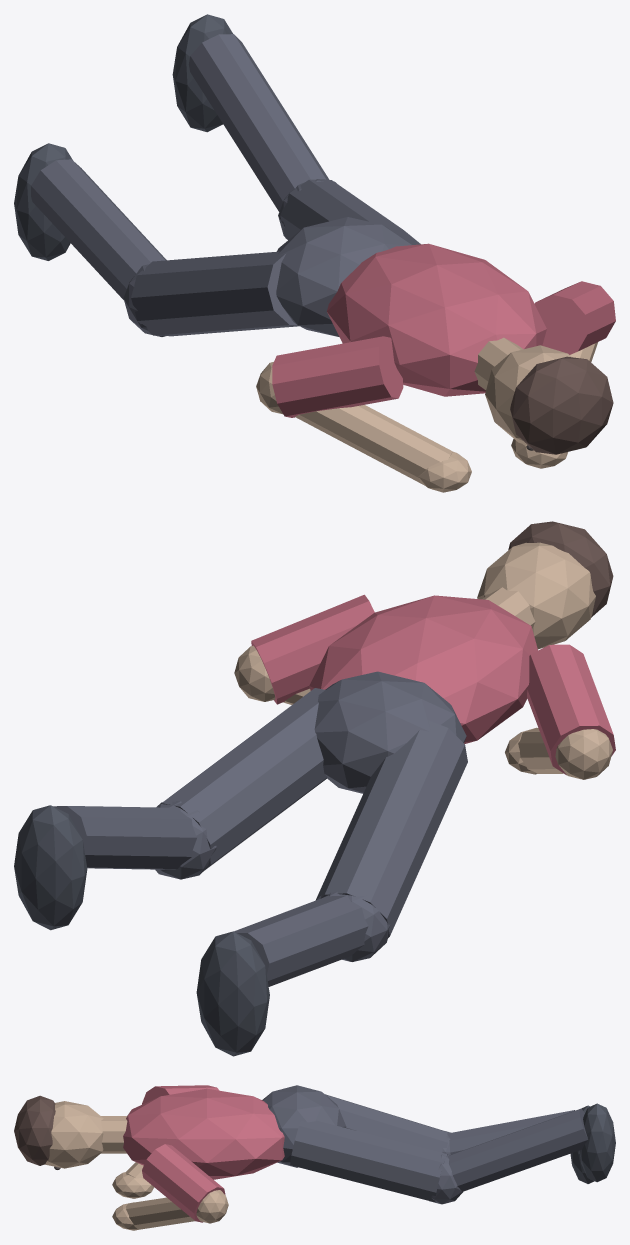
3 views of the same model, one above another, from view 1: azimuth 30°, elevation 25°; view 2: azimuth 150°, elevation 25°; view 3: azimuth 270°, elevation 25° (orthographic). The views are drawn at different scales.
Visible parts, largest first — view 1: world; view 2: world; view 3: world.
Boxes of the visible parts, <box> form: world: <box>14,14,615,492</box>; world: <box>14,521,615,1056</box>; world: <box>14,1085,615,1230</box>.
Size of the model in its own units: 0.93 by 0.5125 by 2.07.
